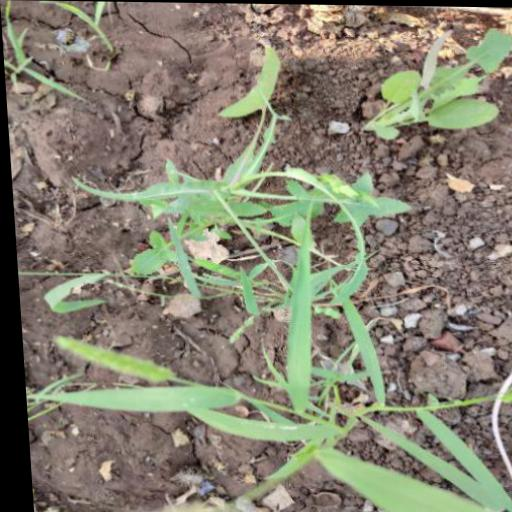weed: (95, 157, 421, 369)
